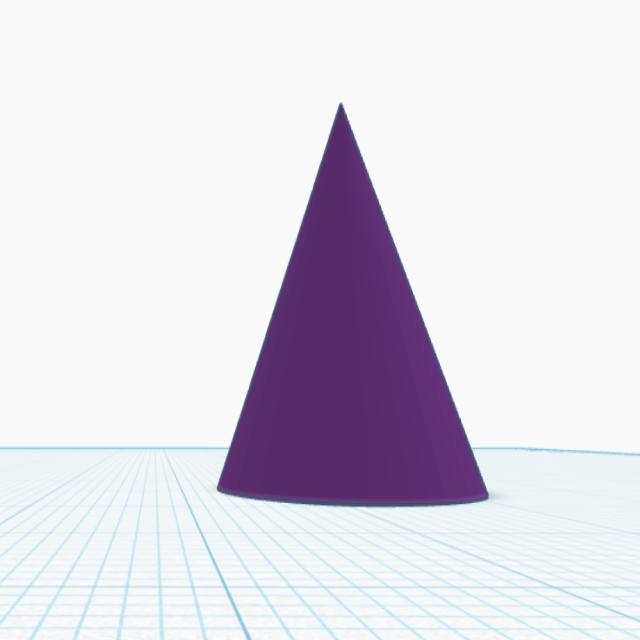cone: (210, 92, 493, 515)
